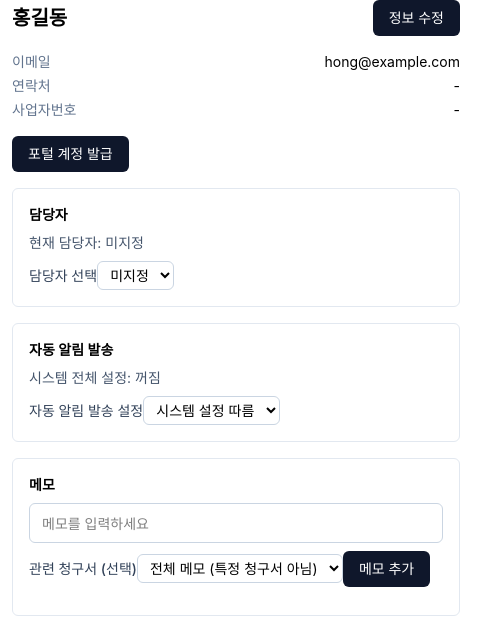
Test: CustomerDetailPage › lets ADMIN assign a collection owner from the admin-users list
Expected: the heading "담당자" is shown, [29,206,68,223]
Expected: the text "현재 담당자: 미지정" is shown, [29,234,144,251]
Select "admin-1" in the dropdown labelled "담당자 선택". click: (136, 276)
box: [97,261,174,290]
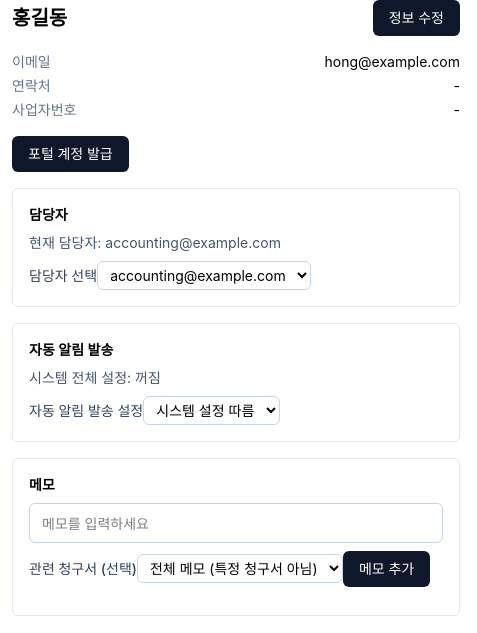
Expected: the text "현재 담당자: accounting@example.com" is shown, [29,234,281,251]
